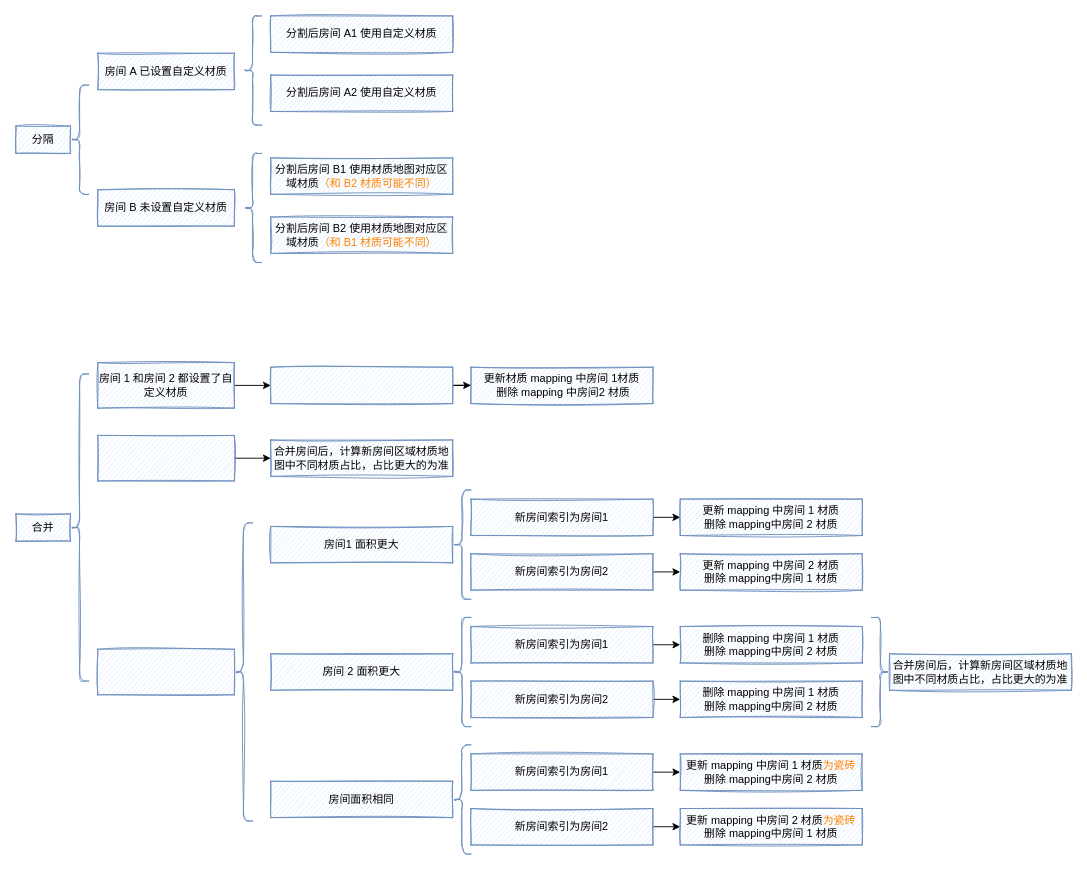
Some shapes in this 1087 by 870 pixel diagram are drawn without their labels. The shapes that lost their labels are listed below. From the top down, each one's box as (x1, y1, x2, y2) in pixels, then its label:
(270, 366, 453, 404): 合并后房间 1 自定义材质以房间面积更大的为准
(97, 435, 234, 481): 房间 1 和房间 2 都未设置自定义材质
(97, 648, 234, 695): 房间 1 设置了自定义材质 房间 2 未设置自定义材质
